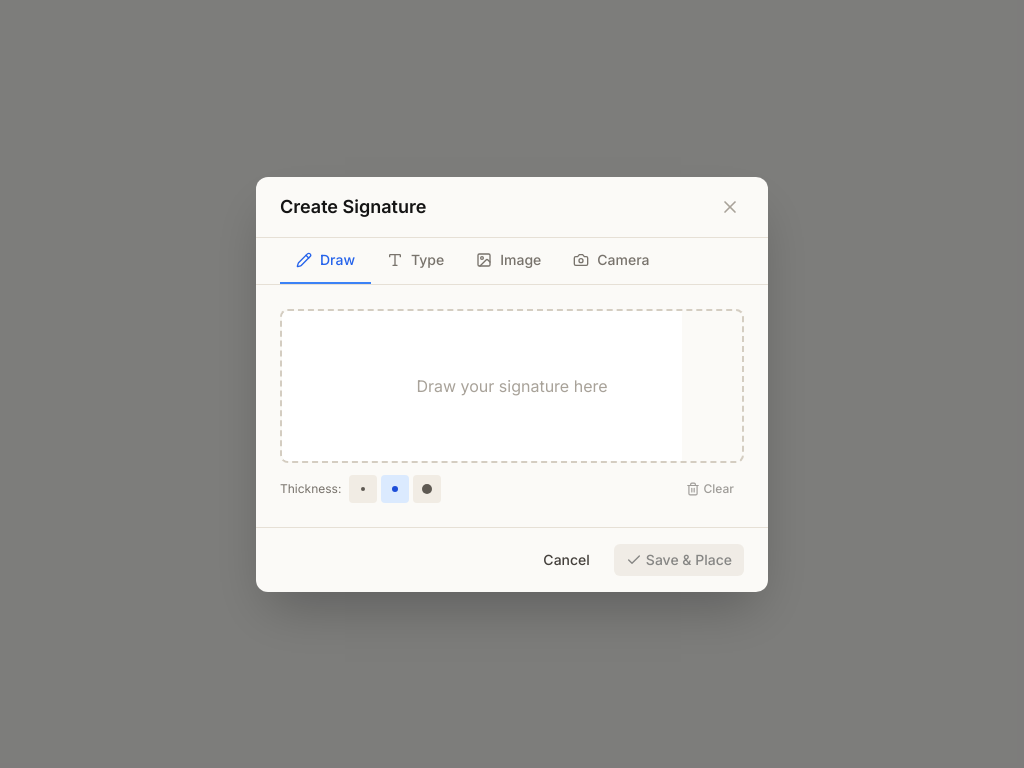
Test: SignatureCreation › SignatureModal › should switch tabs when clicked
This screenshot has width=1024, height=768.
Click the button "Type" at (416, 260), box [371, 238, 460, 284]
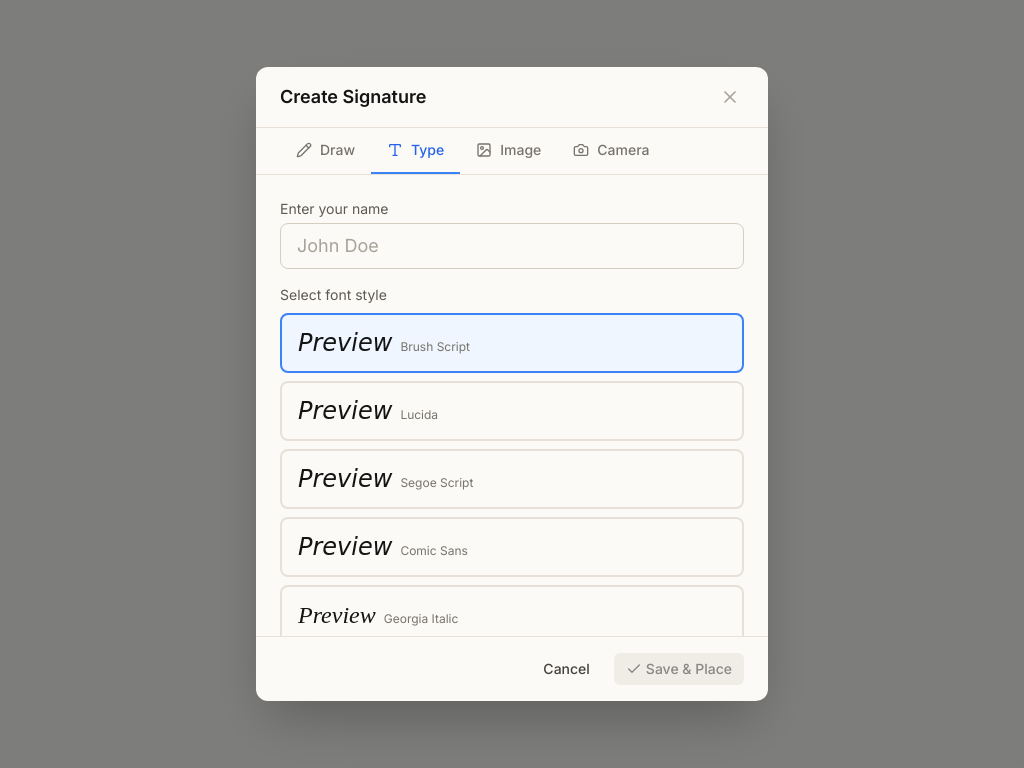
Expected: the field with placeholder "John Doe" is shown, [280, 223, 744, 269]
